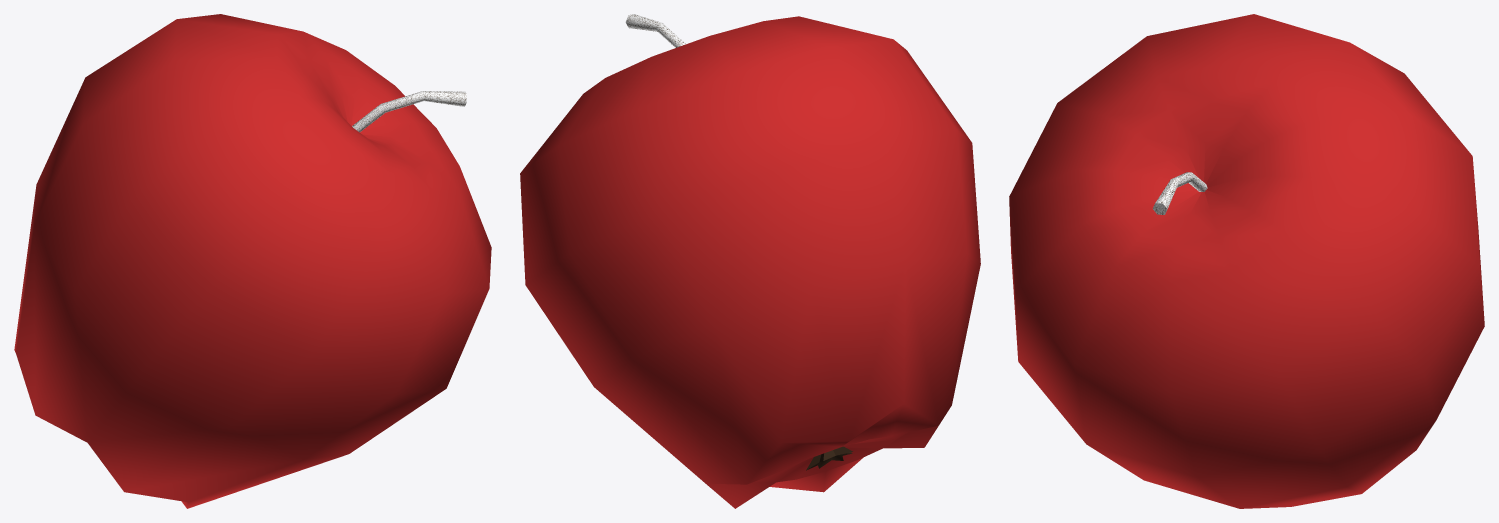
The model's file is Apple.dae.
The picture shows the model from 3 angles, left to right: view 1: azimuth 30°, elevation 25°; view 2: azimuth 150°, elevation 25°; view 3: azimuth 270°, elevation 25°; orthographic projection. The views are drawn at different scales.
Visible parts, largest first — view 1: Fruit_-_Red_Apple (×2); view 2: Fruit_-_Red_Apple (×2); view 3: Fruit_-_Red_Apple (×2).
Boxes of the visible parts, x1,y1,x2,y2 form: Fruit_-_Red_Apple (×2): (14, 14, 491, 508); Fruit_-_Red_Apple (×2): (520, 14, 980, 508); Fruit_-_Red_Apple (×2): (1009, 14, 1484, 508).
Bounding box in the file's own units: 2.98 × 2.85 × 3.12.
